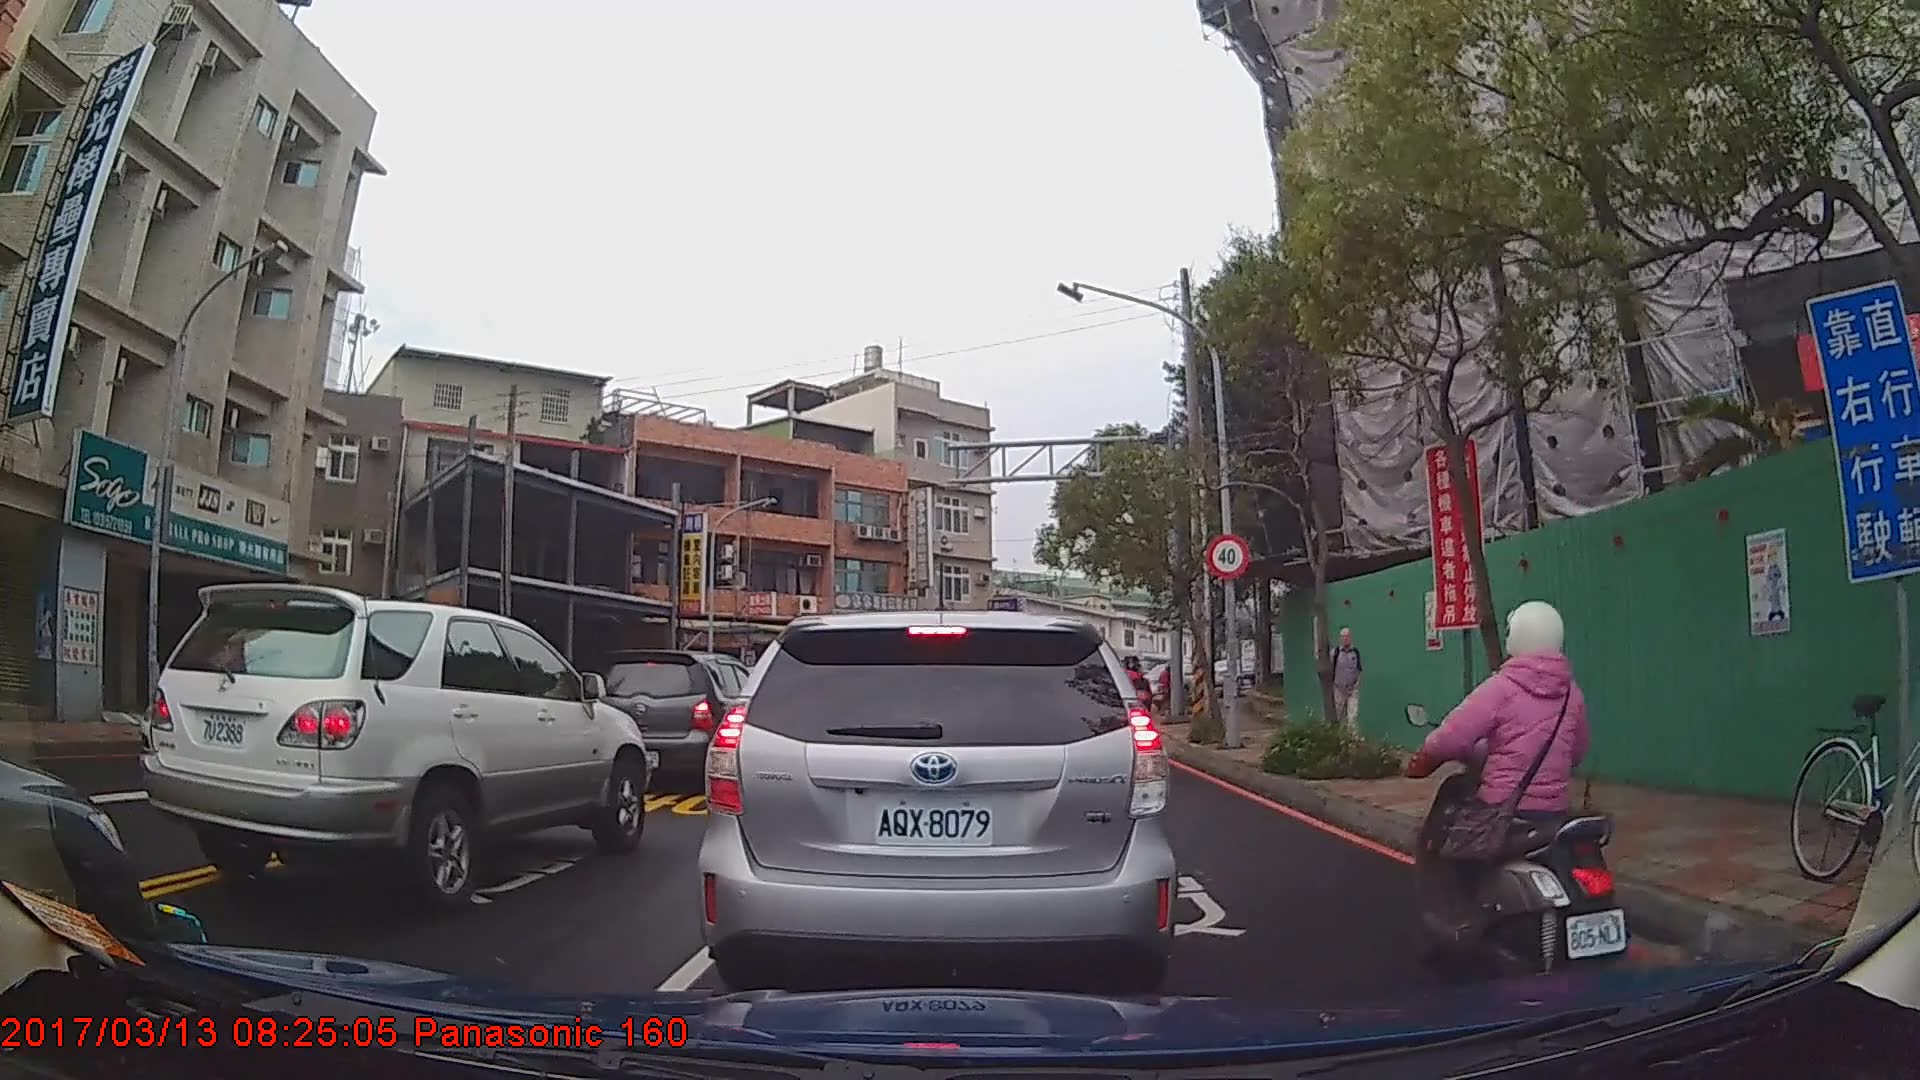pedestrian: (1326, 625, 1369, 750)
rider: (1397, 598, 1627, 1004), (1120, 653, 1157, 771)
vehicle: (691, 610, 1178, 1020), (143, 582, 651, 914), (590, 647, 770, 785)
